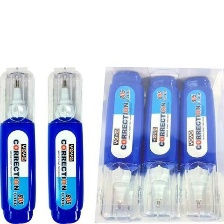correction_fluid: (99, 68, 146, 224), (137, 74, 182, 223), (177, 73, 221, 223), (46, 66, 87, 224), (0, 65, 38, 224)
plastic_box: (92, 64, 224, 224)
